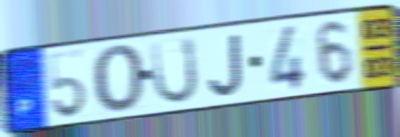4: (268, 21, 307, 93)
5: (47, 46, 90, 122)
6: (314, 18, 356, 87)
J: (207, 31, 245, 98)
O: (90, 42, 145, 116)
U: (150, 35, 200, 107)
